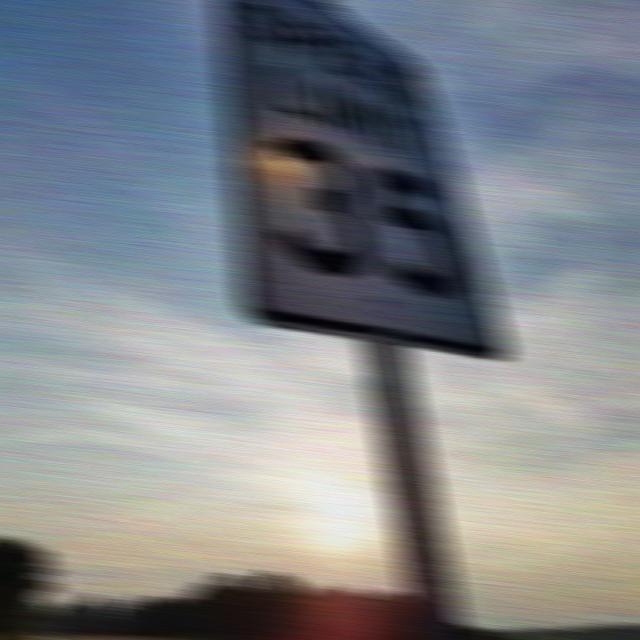speedLimit35: (215, 8, 520, 362)
